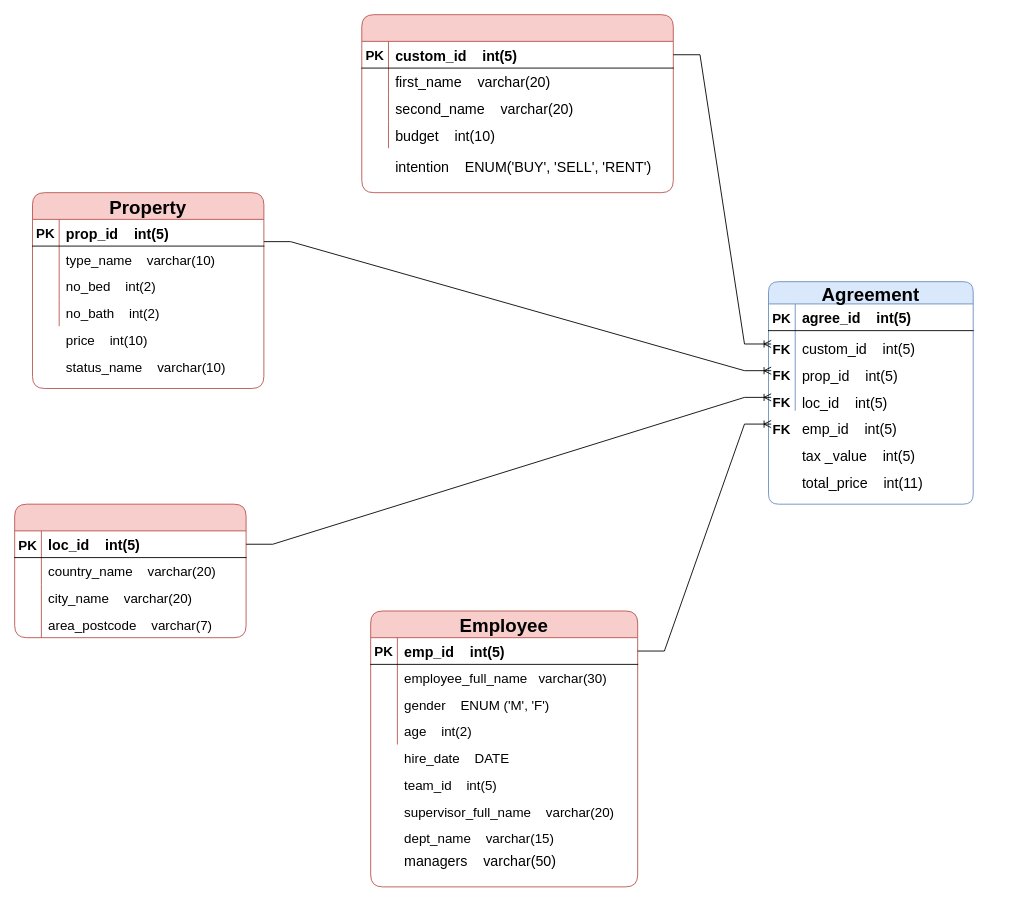
This 1032x902 diagram has some shape labels left out. The shapes that lost their labels are listed below. From the top down, each one's box as (x1, y1, x2, y2) in pixels, then its label:
(361, 14, 673, 193): Customer
(14, 503, 246, 638): Location
